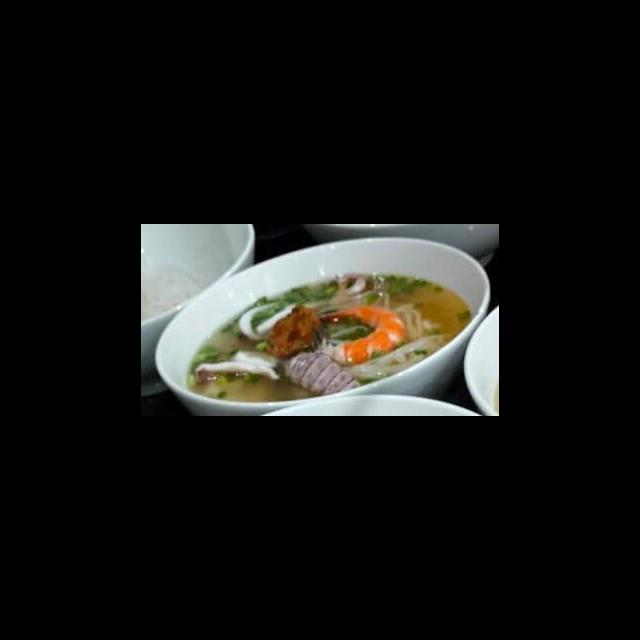bun: (197, 330, 305, 393)
bun hai san: (157, 249, 484, 390)
muc: (195, 250, 268, 301)
tom: (236, 316, 352, 368)
tom tit: (172, 296, 274, 346)
